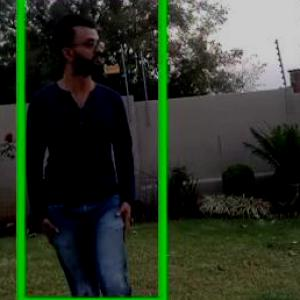follow: (29, 9, 127, 278)
